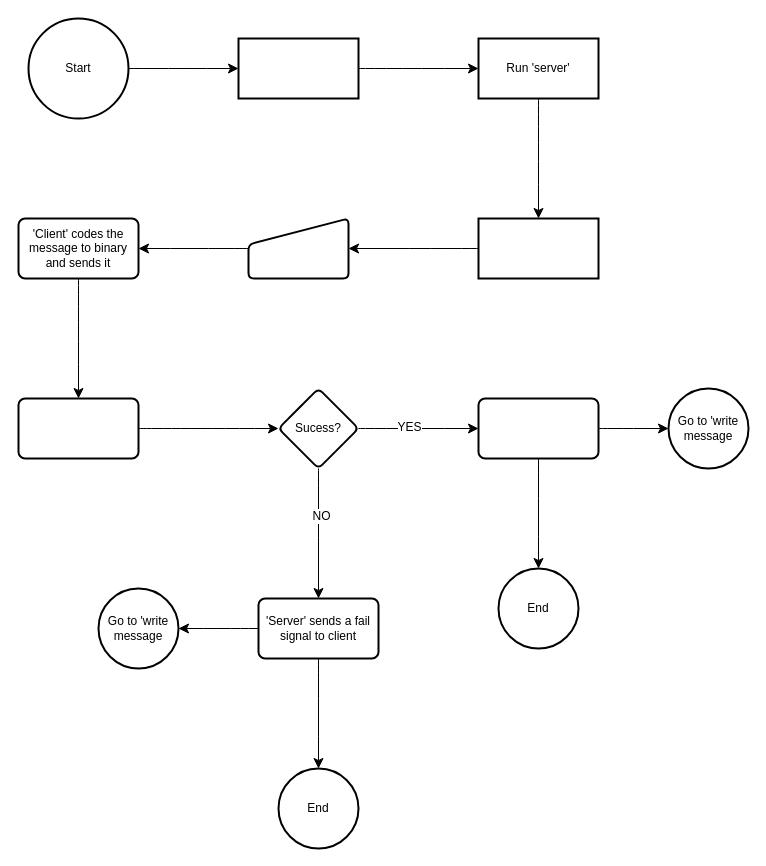
The diagram is 766 pixels wide and 866 high, and some of its shapes have lost their labels. Here are the shapes that lost their labels. From the top down, the centre of each, then its label:
At pixel 298 68: "Makefile Compile 'server' & 'client'".
At pixel 298 248: "Write message".
At pixel 538 248: "Run 'client' with server's PID".
At pixel 78 428: "'Server' receives message, decodes and prints as ASCII".
At pixel 538 428: "'Server' sends a received signal".
